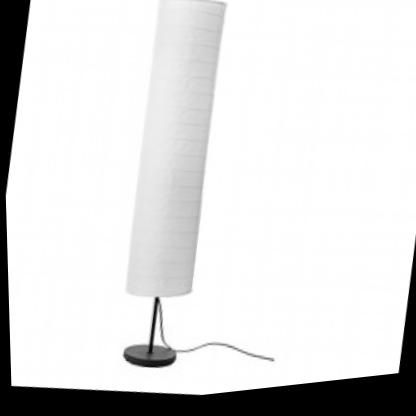Lamp: (77, 0, 258, 395)
